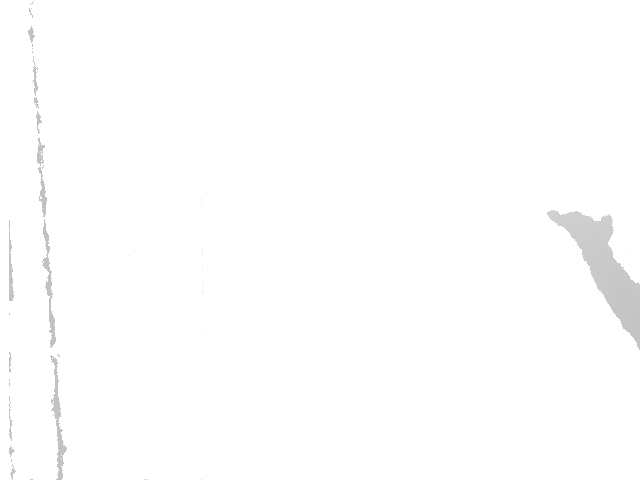hand: (545, 208, 613, 257)
person: (545, 208, 640, 350)
